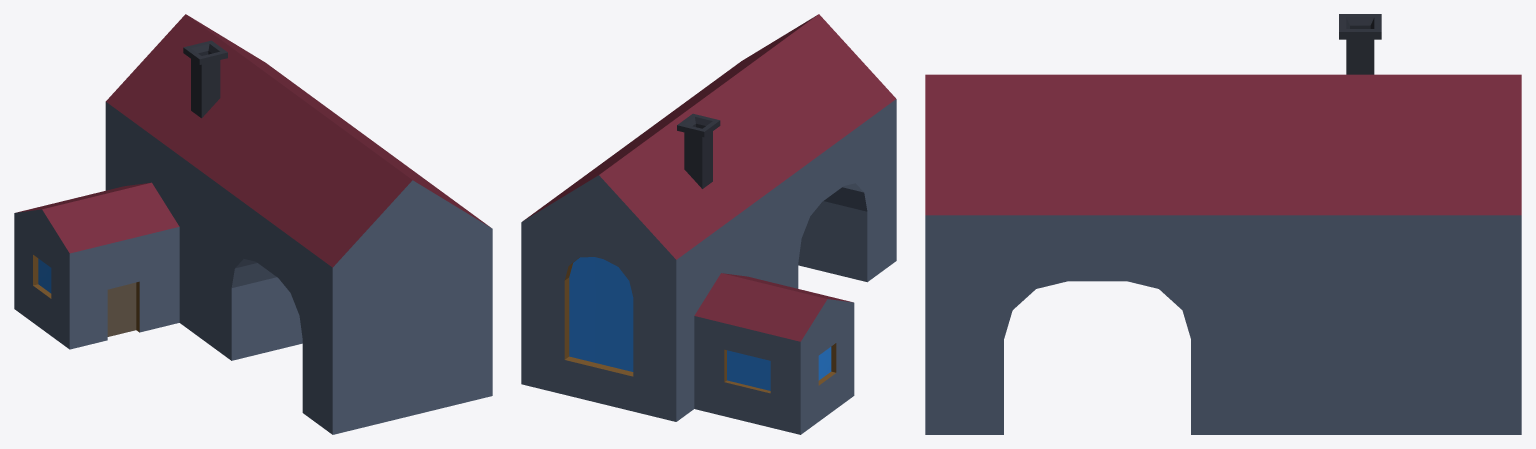
File: SM_House.fbx
3 views of the same model, side by side, from view 1: azimuth 30°, elevation 25°; view 2: azimuth 150°, elevation 25°; view 3: azimuth 270°, elevation 25° (orthographic). The views are drawn at different scales.
Parts seen in each view (by area): view 1: SM_House; view 2: SM_House; view 3: SM_House.
Part boxes in pixels (<box>): SM_House: <box>14,14,492,434</box>; SM_House: <box>521,14,896,434</box>; SM_House: <box>925,14,1521,434</box>.
Size of the model in its own units: 1687 by 1521 by 2461.
